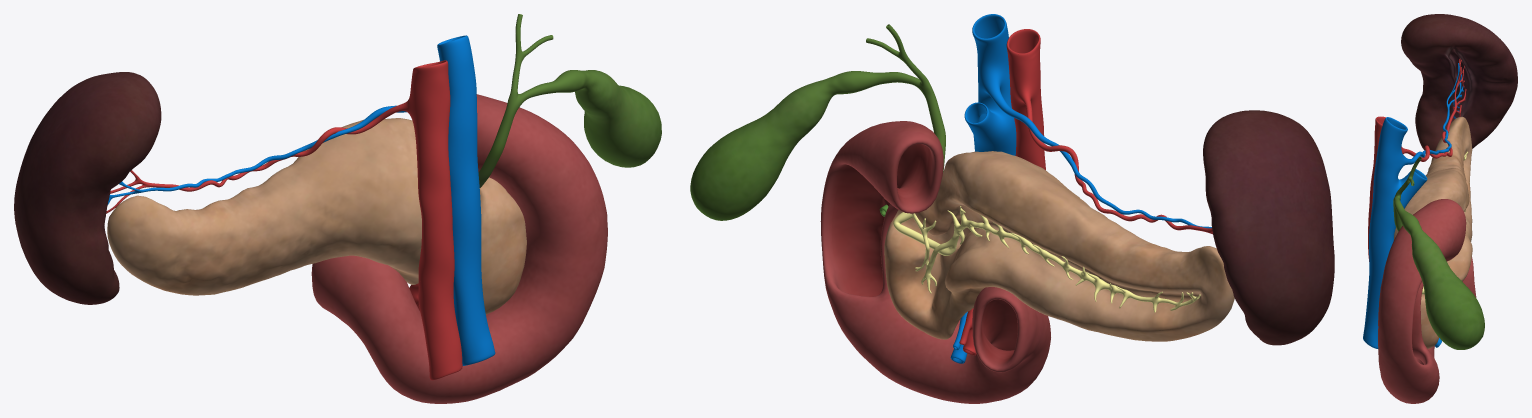
The picture shows the model from 3 angles, left to right: view 1: azimuth 30°, elevation 25°; view 2: azimuth 150°, elevation 25°; view 3: azimuth 270°, elevation 25°; orthographic projection. The views are drawn at different scales.
Parts seen in each view (by area): view 1: Object_3, Object_2, Object_4; view 2: Object_3, Object_2, Object_4; view 3: Object_3, Object_2, Object_4.
Boxes of the visible parts, x1,y1,x2,y2 form: Object_3: (107,14,661,403); Object_2: (14,35,495,380); Object_4: (107,14,656,372); Object_3: (820,26,1234,403); Object_2: (950,14,1334,363); Object_4: (690,24,1211,354); Object_3: (1367,63,1476,403); Object_2: (1363,14,1517,348); Object_4: (1368,59,1484,349).
Bounding box in the file's own units: 25.21 × 14.37 × 7.62.
3 materials, 3 textured.
